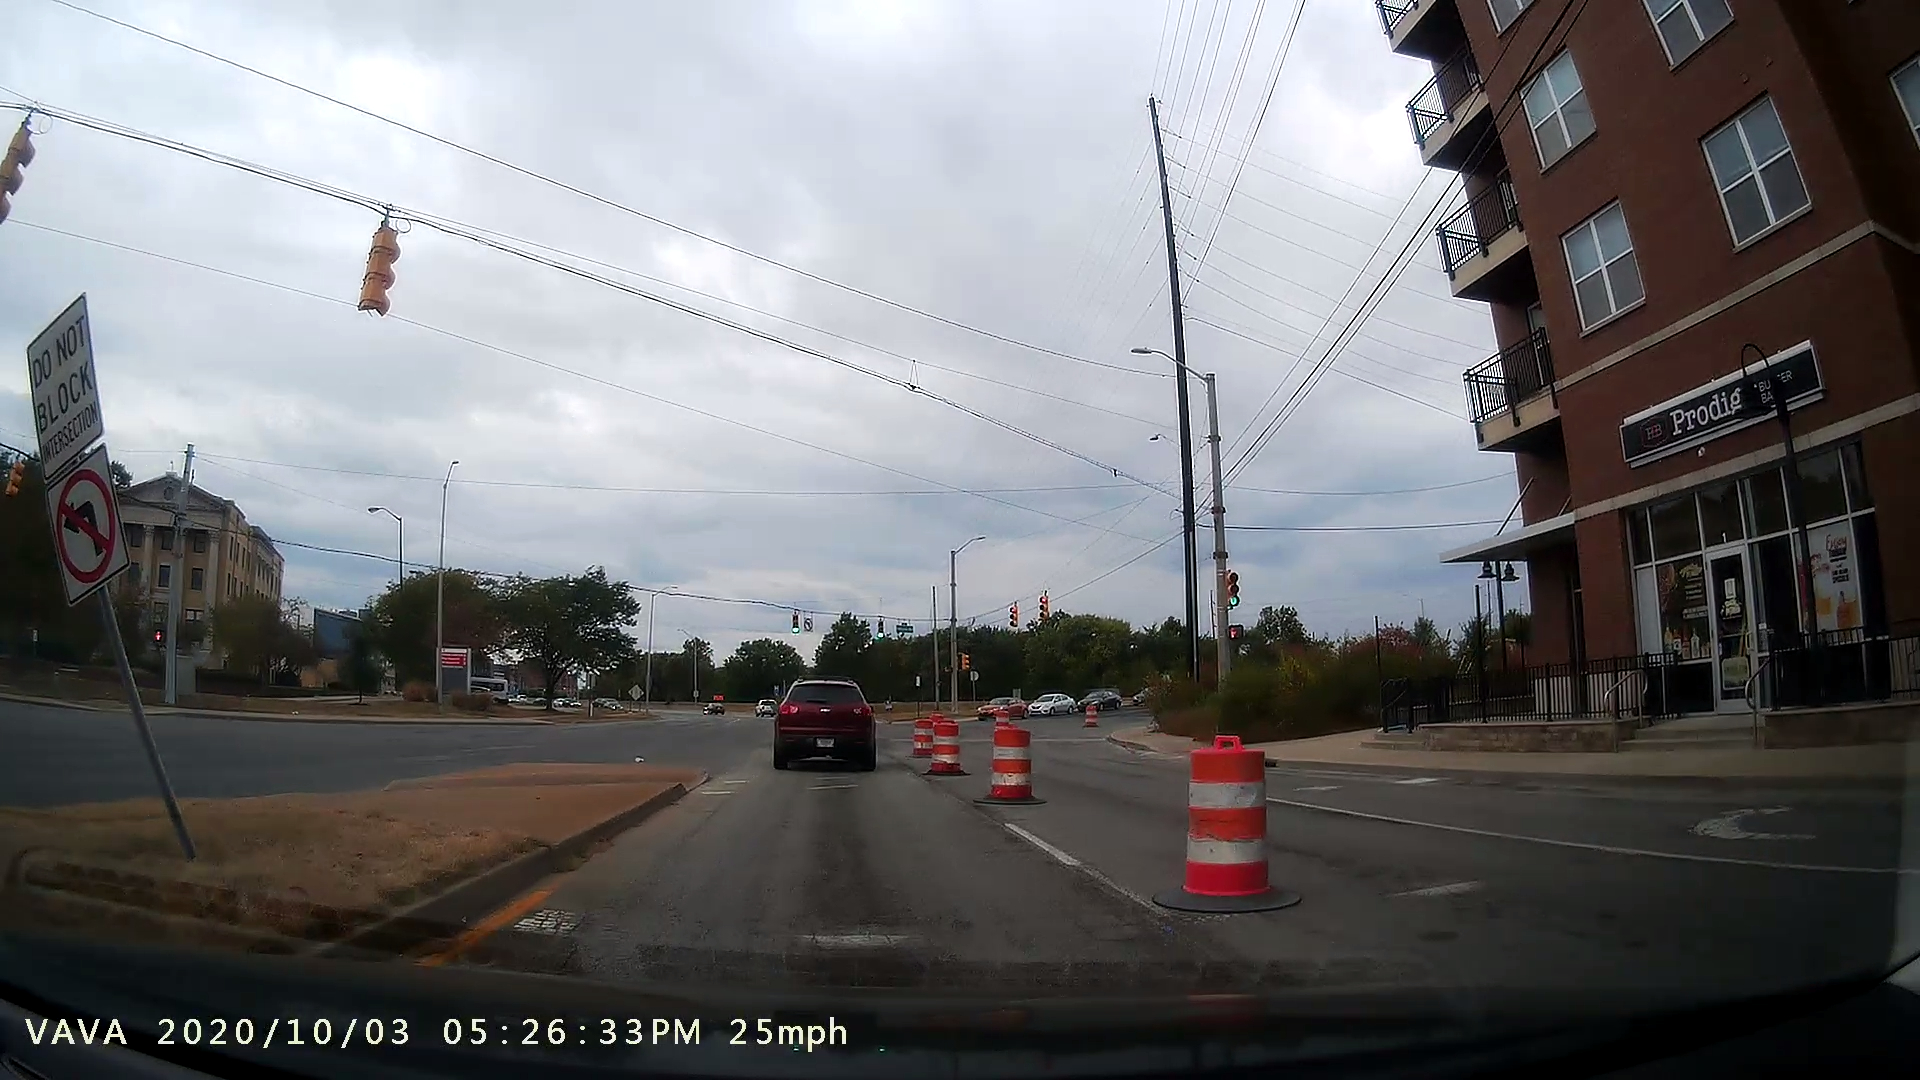const_barrel: (1153, 735, 1307, 924), (975, 715, 1056, 806), (919, 713, 976, 781)
